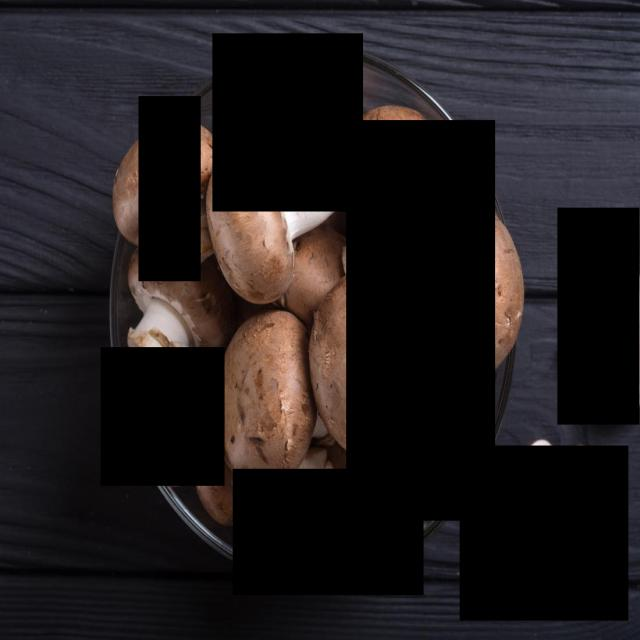Mushroom: (346, 120, 495, 521), (460, 446, 628, 621), (213, 34, 363, 212), (233, 469, 424, 595), (558, 208, 640, 426), (101, 348, 225, 486), (139, 97, 201, 282)
